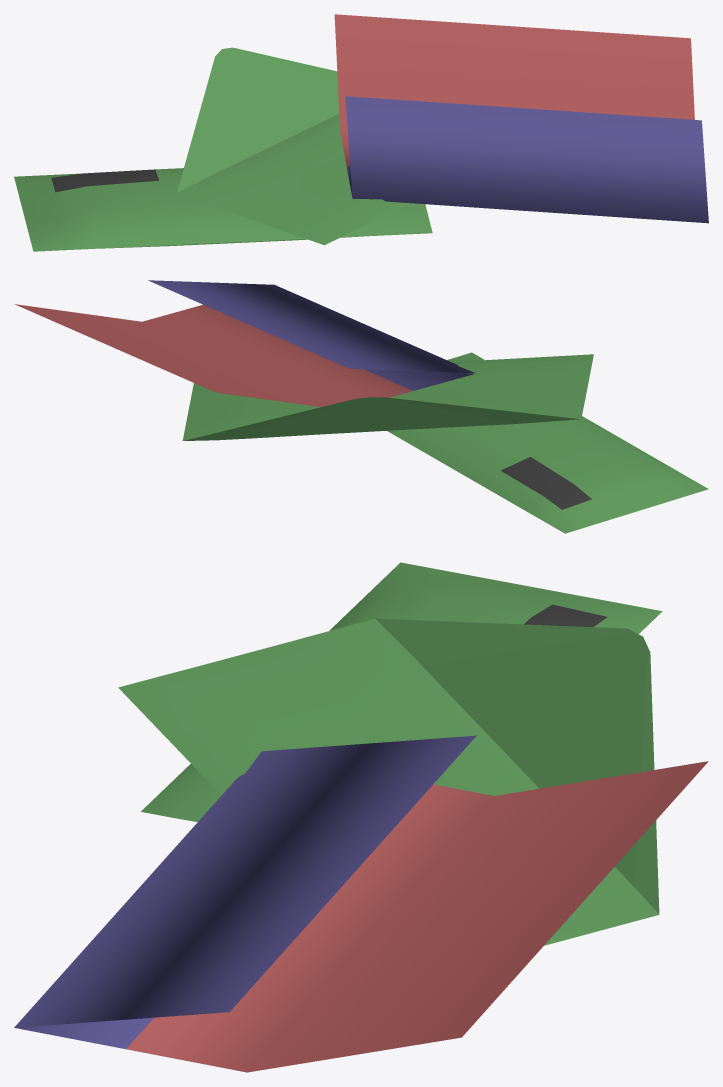
File: Pile_2.fbx
3 views of the same model, one above another, from view 1: azimuth 30°, elevation 25°; view 2: azimuth 150°, elevation 25°; view 3: azimuth 270°, elevation 25° (orthographic). The views are drawn at different scales.
Visible parts, largest first — view 1: Pile_2; view 2: Pile_2; view 3: Pile_2.
Part boxes in pixels (bbox=[...]): Pile_2: bbox=[14, 14, 708, 251]; Pile_2: bbox=[14, 280, 708, 533]; Pile_2: bbox=[14, 562, 708, 1072].
Bounding box in the file's own units: 1.75 × 0.2517 × 0.97.
